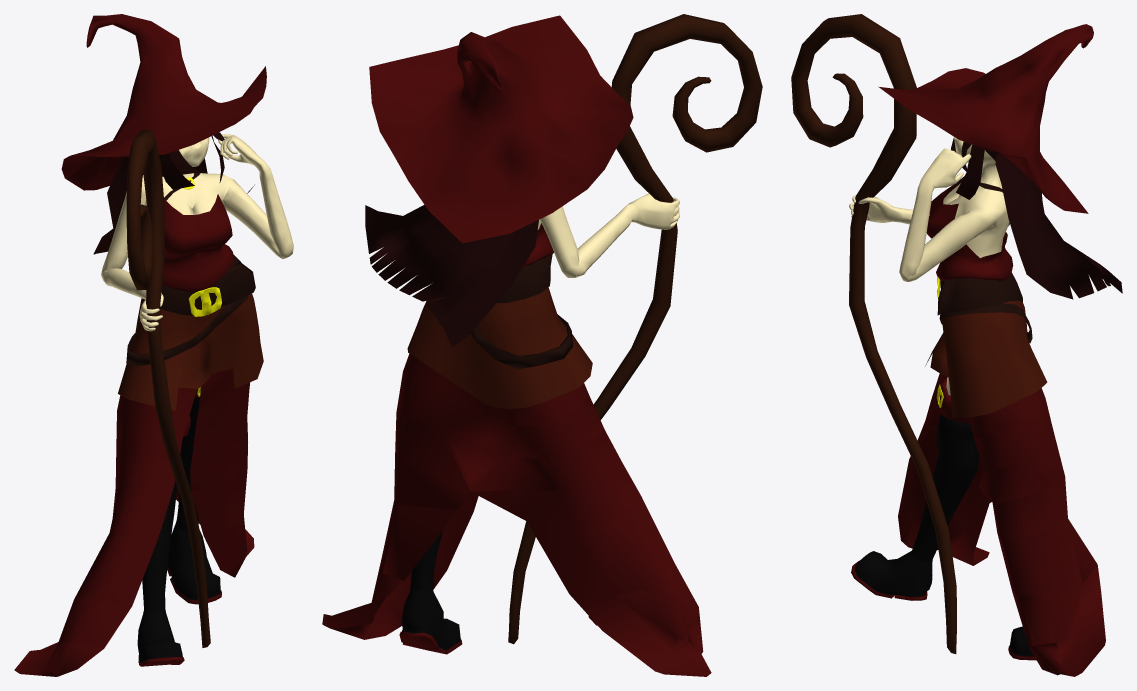
Rendered from Witch2.obj.
The picture shows the model from 3 angles, left to right: view 1: azimuth 30°, elevation 25°; view 2: azimuth 150°, elevation 25°; view 3: azimuth 270°, elevation 25°; orthographic projection. The views are drawn at different scales.
Visible parts, largest first — view 1: dress_Mesh.008, hat1_Mesh.022, wand1_Mesh.021, Skin_Mesh, Corset_Mesh.001, Top_Mesh.003, Boots_Mesh.012, Boots1_Mesh.013, Belt_Mesh.011, HairBAck_Mesh.005, Strip1_Mesh.009, Hair_Mesh.004 (+1 smaller); view 2: dress_Mesh.008, hat1_Mesh.022, wand1_Mesh.021, HairBAck_Mesh.005, Corset_Mesh.001, Skin_Mesh, Boots1_Mesh.013, Strip1_Mesh.009, Belt_Mesh.011; view 3: dress_Mesh.008, wand1_Mesh.021, hat1_Mesh.022, Corset_Mesh.001, Skin_Mesh, Boots_Mesh.012, HairBAck_Mesh.005, Top_Mesh.003, Belt_Mesh.011, Hair_Mesh.004, Strip1_Mesh.009, Boots1_Mesh.013.
Part boxes in pixels (x1,y1,x2,y2): dress_Mesh.008: (14,369,254,676); hat1_Mesh.022: (61,14,266,190); wand1_Mesh.021: (126,129,210,647); Skin_Mesh: (101,134,293,331); Corset_Mesh.001: (118,293,263,410); Top_Mesh.003: (162,194,234,292); Boots_Mesh.012: (137,416,190,666); Boots1_Mesh.013: (167,389,221,604); Belt_Mesh.011: (141,254,255,315); HairBAck_Mesh.005: (93,156,254,254); Strip1_Mesh.009: (126,295,248,365); Hair_Mesh.004: (159,135,224,189); dress_Mesh.008: (322,353,711,676); hat1_Mesh.022: (369,15,633,243); wand1_Mesh.021: (508,14,762,644); HairBAck_Mesh.005: (365,205,538,346); Corset_Mesh.001: (407,287,592,409); Skin_Mesh: (537,193,679,277); Boots1_Mesh.013: (399,530,462,654); Strip1_Mesh.009: (470,314,572,369); Belt_Mesh.011: (497,254,552,302); dress_Mesh.008: (898,373,1105,676); wand1_Mesh.021: (791,14,956,653); hat1_Mesh.022: (878,24,1093,213); Corset_Mesh.001: (925,280,1047,417); Skin_Mesh: (849,136,1009,395); Boots_Mesh.012: (851,377,979,600); HairBAck_Mesh.005: (995,153,1122,299); Top_Mesh.003: (926,176,1013,280); Belt_Mesh.011: (937,272,1022,315); Hair_Mesh.004: (956,144,1000,199); Strip1_Mesh.009: (939,303,1032,343); Boots1_Mesh.013: (1008,626,1036,660).
Bounding box in the file's own units: 2.28 × 4.39 × 2.16.
